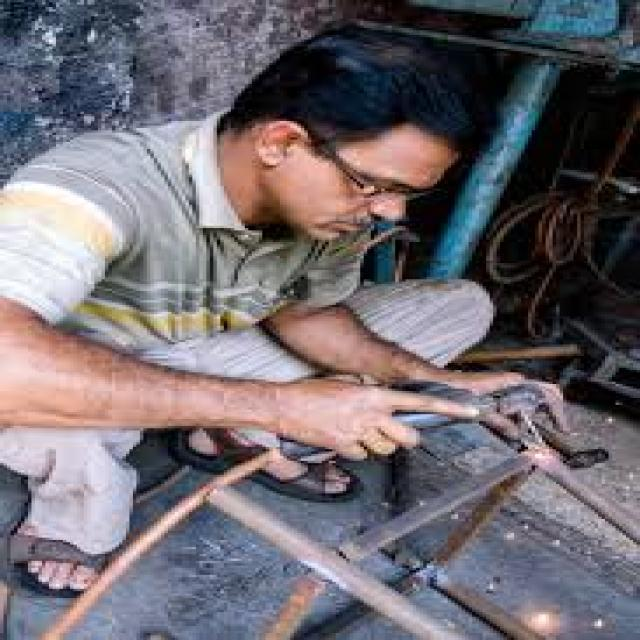without_helmet: (184, 11, 526, 252)
